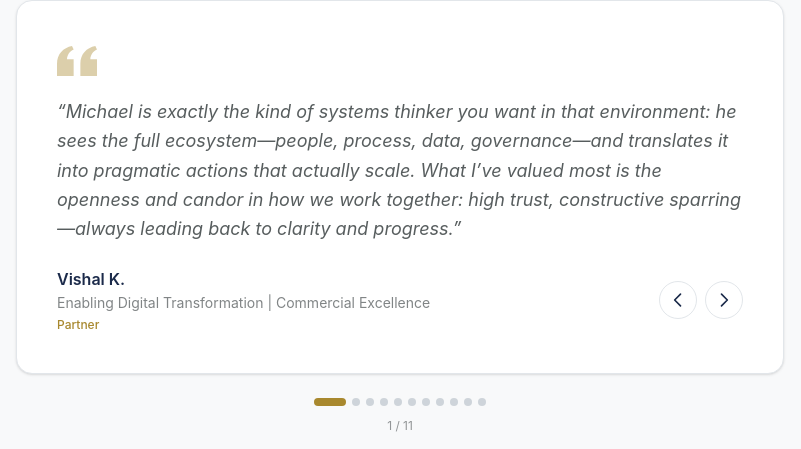
Test: RecommendationsCarousel › navigates to next recommendation on button click
Click the button named "Next recommendation" at (724, 300), box left=705, top=281, right=743, bottom=319
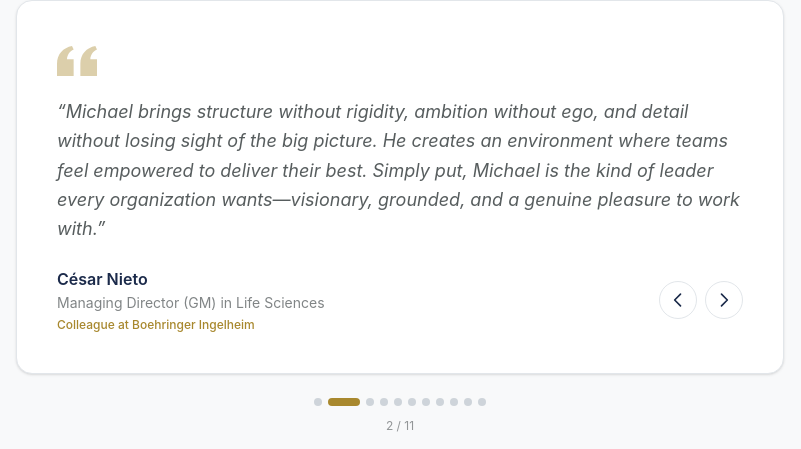
Expected: the text "César Nieto" is shown, left=57, top=269, right=148, bottom=289
Expected: the text "2 / 11" is shown, left=386, top=418, right=414, bottom=432
